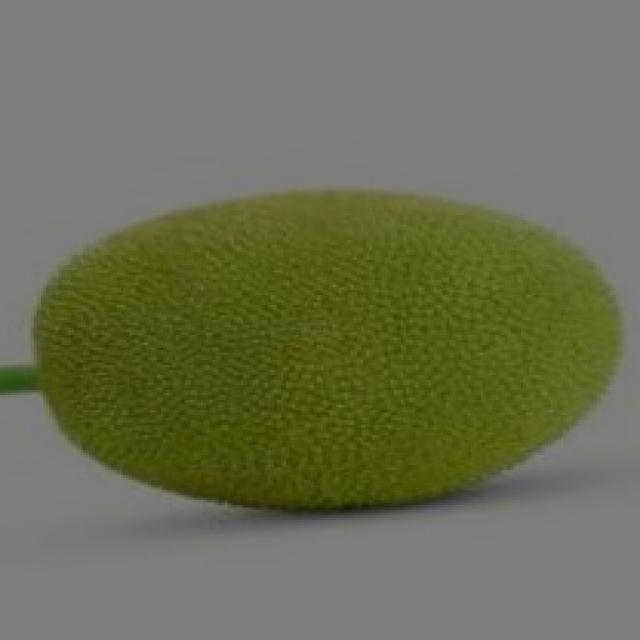Fruit: (243, 168, 637, 532)
